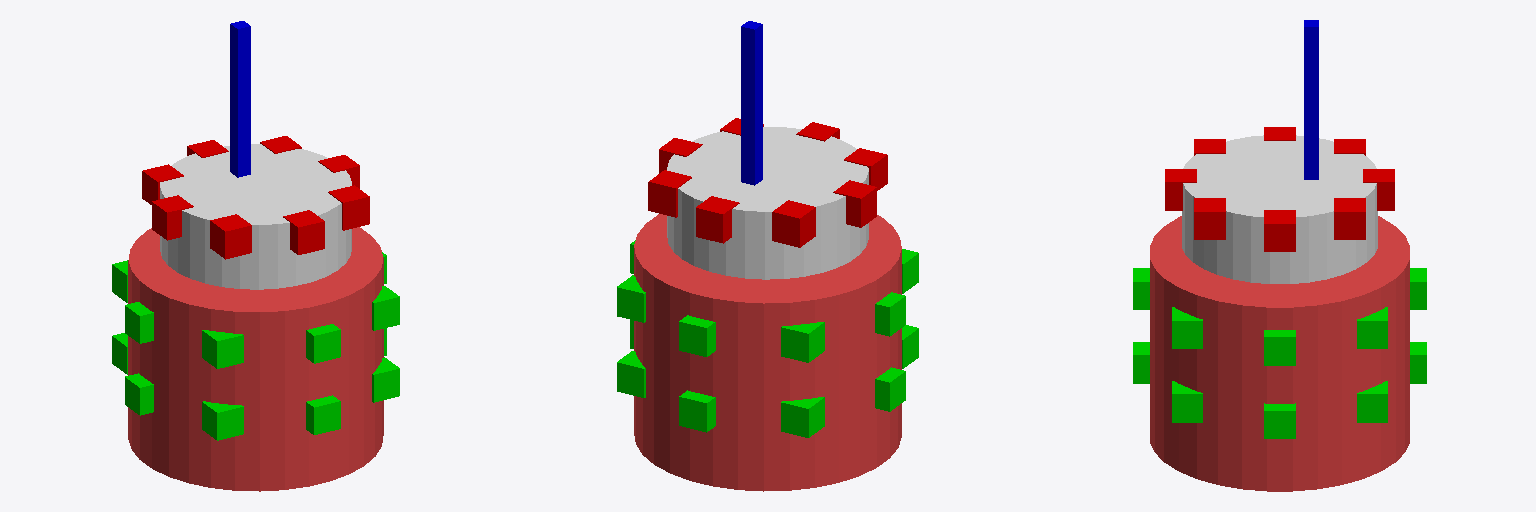
The robot description file, URDF, robot "random_bottle":
<?xml version="1.0"?>
<robot name="random_bottle">

  <!-- Define the cap link -->
  <link name="link1">
    <visual>
      <geometry>
        <mesh filename="cap.obj" scale="1.0 1.0 1.0"/>
      </geometry>
       <material name="white">
        <color rgba=".9 .9 .9 1"/>
      </material>

    </visual>
    <collision>
      <geometry>
        <mesh filename="cap.obj" scale="1.0 1.0 1.0"/>
      </geometry>
    </collision>

    <inertial>
      <mass value="0.012573461490795374"/> <!-- You can adjust the mass as needed -->
      <origin rpy="0 0 0" xyz="0 0 0"/>
      <inertia ixx="3.650944964396852e-06" ixy="0.0" ixz="0.0" iyy="3.650944964396852e-06" iyz="0.0" izz="6.173862986410427e-06"/>
    </inertial>
  </link>

    <link name="l10">
    <visual>
      <geometry>
        <box size="0.01 0.01 0.01"/>
      </geometry>

      <material name="red">
        <color rgba="0.9 0.0 0.0 1"/>
      </material>

    </visual>

    <inertial>
      <mass value="0.0001"/> <!-- You can adjust the mass as needed -->
      <origin rpy="0 0 0" xyz="0 0 -0.00"/> <!-- Offset by half of link1's height + 0.03m for the margin -->
      <inertia ixx="0.000000003" ixy="0.0" ixz="0.0" iyy="0.0000003" iyz="0.0" izz="0.00000003"/>
    </inertial>

  </link>
  <link name="l11">
    <visual>
      <geometry>
        <box size="0.01 0.01 0.01"/>
      </geometry>

      <material name="red">
        <color rgba="0.9 0.0 0.0 1"/>
      </material>

    </visual>

    <inertial>
      <mass value="0.0001"/> <!-- You can adjust the mass as needed -->
      <origin rpy="0 0 0" xyz="0 0 -0.00"/> <!-- Offset by half of link1's height + 0.03m for the margin -->
      <inertia ixx="0.000000003" ixy="0.0" ixz="0.0" iyy="0.0000003" iyz="0.0" izz="0.00000003"/>
    </inertial>

  </link>
  <link name="l12">
    <visual>
      <geometry>
        <box size="0.01 0.01 0.01"/>
      </geometry>

      <material name="red">
        <color rgba="0.9 0.0 0.0 1"/>
      </material>

    </visual>

    <inertial>
      <mass value="0.0001"/> <!-- You can adjust the mass as needed -->
      <origin rpy="0 0 0" xyz="0 0 -0.00"/> <!-- Offset by half of link1's height + 0.03m for the margin -->
      <inertia ixx="0.000000003" ixy="0.0" ixz="0.0" iyy="0.0000003" iyz="0.0" izz="0.00000003"/>
    </inertial>

  </link>
  <link name="l13">
    <visual>
      <geometry>
        <box size="0.01 0.01 0.01"/>
      </geometry>

      <material name="red">
        <color rgba="0.9 0.0 0.0 1"/>
      </material>

    </visual>

    <inertial>
      <mass value="0.0001"/> <!-- You can adjust the mass as needed -->
      <origin rpy="0 0 0" xyz="0 0 -0.00"/> <!-- Offset by half of link1's height + 0.03m for the margin -->
      <inertia ixx="0.000000003" ixy="0.0" ixz="0.0" iyy="0.0000003" iyz="0.0" izz="0.00000003"/>
    </inertial>

  </link>
  <link name="l10b">
    <visual>
      <geometry>
        <box size="0.01 0.01 0.01"/>
      </geometry>

      <material name="red">
        <color rgba="0.9 0.0 0.0 1"/>
      </material>

    </visual>

    <inertial>
      <mass value="0.0001"/> <!-- You can adjust the mass as needed -->
      <origin rpy="0 0 0" xyz="0 0 -0.00"/> <!-- Offset by half of link1's height + 0.03m for the margin -->
      <inertia ixx="0.000000003" ixy="0.0" ixz="0.0" iyy="0.0000003" iyz="0.0" izz="0.00000003"/>
    </inertial>

  </link>
  <link name="l11b">
    <visual>
      <geometry>
        <box size="0.01 0.01 0.01"/>
      </geometry>

      <material name="red">
        <color rgba="0.9 0.0 0.0 1"/>
      </material>

    </visual>

    <inertial>
      <mass value="0.0001"/> <!-- You can adjust the mass as needed -->
      <origin rpy="0 0 0" xyz="0 0 -0.00"/> <!-- Offset by half of link1's height + 0.03m for the margin -->
      <inertia ixx="0.000000003" ixy="0.0" ixz="0.0" iyy="0.0000003" iyz="0.0" izz="0.00000003"/>
    </inertial>

  </link>
  <link name="l12b">
    <visual>
      <geometry>
        <box size="0.01 0.01 0.01"/>
      </geometry>

      <material name="red">
        <color rgba="0.9 0.0 0.0 1"/>
      </material>

    </visual>

    <inertial>
      <mass value="0.0001"/> <!-- You can adjust the mass as needed -->
      <origin rpy="0 0 0" xyz="0 0 -0.00"/> <!-- Offset by half of link1's height + 0.03m for the margin -->
      <inertia ixx="0.000000003" ixy="0.0" ixz="0.0" iyy="0.0000003" iyz="0.0" izz="0.00000003"/>
    </inertial>

  </link>
  <link name="l13b">
    <visual>
      <geometry>
        <box size="0.01 0.01 0.01"/>
      </geometry>

      <material name="red">
        <color rgba="0.9 0.0 0.0 1"/>
      </material>

    </visual>

    <inertial>
      <mass value="0.0001"/> <!-- You can adjust the mass as needed -->
      <origin rpy="0 0 0" xyz="0 0 -0.00"/> <!-- Offset by half of link1's height + 0.03m for the margin -->
      <inertia ixx="0.000000003" ixy="0.0" ixz="0.0" iyy="0.0000003" iyz="0.0" izz="0.00000003"/>
    </inertial>

  </link>
  <link name="l20">
    <visual>
      <geometry>
        <box size="0.01 0.01 0.01"/>
      </geometry>

      <material name="red">
        <color rgba="0.0 0.9 0.0 1"/>
      </material>

    </visual>

    <inertial>
      <mass value="0.0001"/> <!-- You can adjust the mass as needed -->
      <origin rpy="0 0 0" xyz="0 0 -0.00"/> <!-- Offset by half of link1's height + 0.03m for the margin -->
      <inertia ixx="0.000000003" ixy="0.0" ixz="0.0" iyy="0.0000003" iyz="0.0" izz="0.00000003"/>
    </inertial>

  </link>
  <link name="l21">
    <visual>
      <geometry>
        <box size="0.01 0.01 0.01"/>
      </geometry>

      <material name="red">
        <color rgba="0.0 0.9 0.0 1"/>
      </material>

    </visual>

    <inertial>
      <mass value="0.0001"/> <!-- You can adjust the mass as needed -->
      <origin rpy="0 0 0" xyz="0 0 -0.00"/> <!-- Offset by half of link1's height + 0.03m for the margin -->
      <inertia ixx="0.000000003" ixy="0.0" ixz="0.0" iyy="0.0000003" iyz="0.0" izz="0.00000003"/>
    </inertial>

  </link>
  <link name="l22">
    <visual>
      <geometry>
        <box size="0.01 0.01 0.01"/>
      </geometry>

      <material name="red">
        <color rgba="0.0 0.9 0.0 1"/>
      </material>

    </visual>

    <inertial>
      <mass value="0.0001"/> <!-- You can adjust the mass as needed -->
      <origin rpy="0 0 0" xyz="0 0 -0.00"/> <!-- Offset by half of link1's height + 0.03m for the margin -->
      <inertia ixx="0.000000003" ixy="0.0" ixz="0.0" iyy="0.0000003" iyz="0.0" izz="0.00000003"/>
    </inertial>

  </link>
  <link name="l23">
    <visual>
      <geometry>
        <box size="0.01 0.01 0.01"/>
      </geometry>

      <material name="red">
        <color rgba="0.0 0.9 0.0 1"/>
      </material>

    </visual>

    <inertial>
      <mass value="0.0001"/> <!-- You can adjust the mass as needed -->
      <origin rpy="0 0 0" xyz="0 0 -0.00"/> <!-- Offset by half of link1's height + 0.03m for the margin -->
      <inertia ixx="0.000000003" ixy="0.0" ixz="0.0" iyy="0.0000003" iyz="0.0" izz="0.00000003"/>
    </inertial>

  </link>
  <link name="l24">
    <visual>
      <geometry>
        <box size="0.01 0.01 0.01"/>
      </geometry>

      <material name="red">
        <color rgba="0.0 0.9 0.0 1"/>
      </material>

    </visual>

    <inertial>
      <mass value="0.0001"/> <!-- You can adjust the mass as needed -->
      <origin rpy="0 0 0" xyz="0 0 -0.00"/> <!-- Offset by half of link1's height + 0.03m for the margin -->
      <inertia ixx="0.000000003" ixy="0.0" ixz="0.0" iyy="0.0000003" iyz="0.0" izz="0.00000003"/>
    </inertial>

  </link>
  <link name="l25">
    <visual>
      <geometry>
        <box size="0.01 0.01 0.01"/>
      </geometry>

      <material name="red">
        <color rgba="0.0 0.9 0.0 1"/>
      </material>

    </visual>

    <inertial>
      <mass value="0.0001"/> <!-- You can adjust the mass as needed -->
      <origin rpy="0 0 0" xyz="0 0 -0.00"/> <!-- Offset by half of link1's height + 0.03m for the margin -->
      <inertia ixx="0.000000003" ixy="0.0" ixz="0.0" iyy="0.0000003" iyz="0.0" izz="0.00000003"/>
    </inertial>

  </link>
  <link name="l26">
    <visual>
      <geometry>
        <box size="0.01 0.01 0.01"/>
      </geometry>

      <material name="red">
        <color rgba="0.0 0.9 0.0 1"/>
      </material>

    </visual>

    <inertial>
      <mass value="0.0001"/> <!-- You can adjust the mass as needed -->
      <origin rpy="0 0 0" xyz="0 0 -0.00"/> <!-- Offset by half of link1's height + 0.03m for the margin -->
      <inertia ixx="0.000000003" ixy="0.0" ixz="0.0" iyy="0.0000003" iyz="0.0" izz="0.00000003"/>
    </inertial>

  </link>
  <link name="l27">
    <visual>
      <geometry>
        <box size="0.01 0.01 0.01"/>
      </geometry>

      <material name="red">
        <color rgba="0.0 0.9 0.0 1"/>
      </material>

    </visual>

    <inertial>
      <mass value="0.0001"/> <!-- You can adjust the mass as needed -->
      <origin rpy="0 0 0" xyz="0 0 -0.00"/> <!-- Offset by half of link1's height + 0.03m for the margin -->
      <inertia ixx="0.000000003" ixy="0.0" ixz="0.0" iyy="0.0000003" iyz="0.0" izz="0.00000003"/>
    </inertial>

  </link>
  <link name="l30">
    <visual>
      <geometry>
        <box size="0.01 0.01 0.01"/>
      </geometry>

      <material name="red">
        <color rgba="0.0 0.9 0.0 1"/>
      </material>

    </visual>

    <inertial>
      <mass value="0.0001"/> <!-- You can adjust the mass as needed -->
      <origin rpy="0 0 0" xyz="0 0 -0.00"/> <!-- Offset by half of link1's height + 0.03m for the margin -->
      <inertia ixx="0.000000003" ixy="0.0" ixz="0.0" iyy="0.0000003" iyz="0.0" izz="0.00000003"/>
    </inertial>

  </link>
  <link name="l31">
    <visual>
      <geometry>
        <box size="0.01 0.01 0.01"/>
      </geometry>

      <material name="red">
        <color rgba="0.0 0.9 0.0 1"/>
      </material>

    </visual>

    <inertial>
      <mass value="0.0001"/> <!-- You can adjust the mass as needed -->
      <origin rpy="0 0 0" xyz="0 0 -0.00"/> <!-- Offset by half of link1's height + 0.03m for the margin -->
      <inertia ixx="0.000000003" ixy="0.0" ixz="0.0" iyy="0.0000003" iyz="0.0" izz="0.00000003"/>
    </inertial>

  </link>
  <link name="l32">
    <visual>
      <geometry>
        <box size="0.01 0.01 0.01"/>
      </geometry>

      <material name="red">
        <color rgba="0.0 0.9 0.0 1"/>
      </material>

    </visual>

    <inertial>
      <mass value="0.0001"/> <!-- You can adjust the mass as needed -->
      <origin rpy="0 0 0" xyz="0 0 -0.00"/> <!-- Offset by half of link1's height + 0.03m for the margin -->
      <inertia ixx="0.000000003" ixy="0.0" ixz="0.0" iyy="0.0000003" iyz="0.0" izz="0.00000003"/>
    </inertial>

  </link>
  <link name="l33">
    <visual>
      <geometry>
        <box size="0.01 0.01 0.01"/>
      </geometry>

      <material name="red">
        <color rgba="0.0 0.9 0.0 1"/>
      </material>

    </visual>

    <inertial>
      <mass value="0.0001"/> <!-- You can adjust the mass as needed -->
      <origin rpy="0 0 0" xyz="0 0 -0.00"/> <!-- Offset by half of link1's height + 0.03m for the margin -->
      <inertia ixx="0.000000003" ixy="0.0" ixz="0.0" iyy="0.0000003" iyz="0.0" izz="0.00000003"/>
    </inertial>

  </link>
  <link name="l34">
    <visual>
      <geometry>
        <box size="0.01 0.01 0.01"/>
      </geometry>

      <material name="red">
        <color rgba="0.0 0.9 0.0 1"/>
      </material>

    </visual>

    <inertial>
      <mass value="0.0001"/> <!-- You can adjust the mass as needed -->
      <origin rpy="0 0 0" xyz="0 0 -0.00"/> <!-- Offset by half of link1's height + 0.03m for the margin -->
      <inertia ixx="0.000000003" ixy="0.0" ixz="0.0" iyy="0.0000003" iyz="0.0" izz="0.00000003"/>
    </inertial>

  </link>
  <link name="l35">
    <visual>
      <geometry>
        <box size="0.01 0.01 0.01"/>
      </geometry>

      <material name="red">
        <color rgba="0.0 0.9 0.0 1"/>
      </material>

    </visual>

    <inertial>
      <mass value="0.0001"/> <!-- You can adjust the mass as needed -->
      <origin rpy="0 0 0" xyz="0 0 -0.00"/> <!-- Offset by half of link1's height + 0.03m for the margin -->
      <inertia ixx="0.000000003" ixy="0.0" ixz="0.0" iyy="0.0000003" iyz="0.0" izz="0.00000003"/>
    </inertial>

  </link>
  <link name="l36">
    <visual>
      <geometry>
        <box size="0.01 0.01 0.01"/>
      </geometry>

      <material name="red">
        <color rgba="0.0 0.9 0.0 1"/>
      </material>

    </visual>

    <inertial>
      <mass value="0.0001"/> <!-- You can adjust the mass as needed -->
      <origin rpy="0 0 0" xyz="0 0 -0.00"/> <!-- Offset by half of link1's height + 0.03m for the margin -->
      <inertia ixx="0.000000003" ixy="0.0" ixz="0.0" iyy="0.0000003" iyz="0.0" izz="0.00000003"/>
    </inertial>

  </link>
  <link name="l37">
    <visual>
      <geometry>
        <box size="0.01 0.01 0.01"/>
      </geometry>

      <material name="red">
        <color rgba="0.0 0.9 0.0 1"/>
      </material>

    </visual>

    <inertial>
      <mass value="0.0001"/> <!-- You can adjust the mass as needed -->
      <origin rpy="0 0 0" xyz="0 0 -0.00"/> <!-- Offset by half of link1's height + 0.03m for the margin -->
      <inertia ixx="0.000000003" ixy="0.0" ixz="0.0" iyy="0.0000003" iyz="0.0" izz="0.00000003"/>
    </inertial>

  </link>


  <link name="hint">
    <visual>
      <geometry>
        <box size="0.005 0.005 0.07"/> <!-- 9cm x 9cm x 6cm -->
      </geometry>
       <material name="blue">
        <color rgba=".0 .0 .9 1"/>
      </material>
    </visual>

    <inertial>
      <mass value="0.0001"/> <!-- You can adjust the mass as needed -->
      <origin rpy="0 0 0" xyz="0 0 -0.00"/> <!-- Offset by half of link1's height + 0.03m for the margin -->
      <inertia ixx="0.000000003" ixy="0.0" ixz="0.0" iyy="0.0000003" iyz="0.0" izz="0.00000003"/>
    </inertial>


  </link>

  <!-- Define the base link -->
  <link name="link2">
    <visual>
      <geometry>
        <mesh filename="base.obj" scale="1.0 1.0 1.0"/>
      </geometry>
      <material name="red">
        <color rgba=".9 .3 .3 1"/>
      </material>

    </visual>

    <collision>
      <geometry>
        <mesh filename="base.obj" scale="1.0 1.0 1.0"/>
      </geometry>
    </collision>

    <inertial>
      <mass value="0.0567644256367411"/> <!-- You can adjust the mass as needed -->
      <origin rpy="0 0 0" xyz="0 0 -0.00"/> <!-- Offset by half of link1's height + 0.03m for the margin -->
      <inertia ixx="4.415228573289781e-05" ixy="0.0" ixz="0.0" iyy="4.415228573289781e-05" iyz="0.0" izz="4.90921093415296e-05"/>
    </inertial>
  </link>



  <link name="brake">
   <visual>
      <geometry>
        <box size="0.02 0.02 0.005"/> <!-- 6cm x 6cm x 2cm -->
      </geometry>
       <material name="gray">
        <color rgba=".5 .5 .5 1"/>
      </material>

    </visual>
    <collision>
      <geometry>
        <box size="0.02 0.02 0.005"/> <!-- 6cm x 6cm x 2cm -->
      </geometry>
    </collision>

    <inertial>
      <mass value="0.005"/> <!-- You can adjust the mass as needed -->
      <origin rpy="0 0 0" xyz="0 0 0"/>
      <inertia ixx="0.00018" ixy="0.0" ixz="0.0" iyy="0.00018" iyz="0.0" izz="0.00018"/>
    </inertial>
  </link>

  <!-- Define the joint connecting link1 and link2 as a revolute joint along z-axis -->
  <joint name="fix_joint" type="fixed">
    <parent link="link1"/>
    <child link="hint"/>
    <origin rpy="0 0 0" xyz="0 0.01 0.03"/> <!-- Offset by half of link1's height for the margin -->
    <axis xyz="0 0 1"/>
  </joint>

  <!-- Define the joint connecting link1 and link2 as a revolute joint along z-axis -->
  <joint name="brake_joint" type="prismatic">
    <parent link="link2"/>
    <child link="brake"/>
    <origin rpy="0 0 0" xyz="0 0 0.05539096080207221"/> <!-- Offset by half of link1's height for the margin -->
    <axis xyz="0 0 1"/>
    <limit lower="-0.02" upper="0.02" />
    <!-- <dynamics damping="0.0" friction="0.0"/> -->
  </joint>


  <joint name="b_joint" type="revolute">
    <parent link="link2"/>
    <child link="link1"/>
    <origin rpy="0 0 0" xyz="0 0 0.04718989512151735"/> <!-- Offset by half of link1's height for the margin -->
    <axis xyz="0 0 1"/>
    <!-- No joint limits -->
    <dynamics damping="0.0" friction="0.0"/>
  </joint>


  <!-- marker -->
    <joint name="jl10" type="fixed">
    <parent link="link1"/>
    <child link="l10"/>
    <origin rpy="0 0 0" xyz="0.0 0.03133762385439873 0.006960319704166458"/> <!-- Offset by half of link1's height for the margin -->
    <axis xyz="0 0 1"/>
  </joint>
  <joint name="jl11" type="fixed">
    <parent link="link1"/>
    <child link="l11"/>
    <origin rpy="0 0 0" xyz="0.022159046036843974 0.022159046630593326 0.006960319704166458"/> <!-- Offset by half of link1's height for the margin -->
    <axis xyz="0 0 1"/>
  </joint>
  <joint name="jl12" type="fixed">
    <parent link="link1"/>
    <child link="l12"/>
    <origin rpy="0 0 0" xyz="0.03133762385439871 8.396883903991403e-10 0.006960319704166458"/> <!-- Offset by half of link1's height for the margin -->
    <axis xyz="0 0 1"/>
  </joint>
  <joint name="jl13" type="fixed">
    <parent link="link1"/>
    <child link="l13"/>
    <origin rpy="0 0 0" xyz="0.02215904722434266 -0.022159045443094605 0.006960319704166458"/> <!-- Offset by half of link1's height for the margin -->
    <axis xyz="0 0 1"/>
  </joint>
  <joint name="jl10b" type="fixed">
    <parent link="link1"/>
    <child link="l10b"/>
    <origin rpy="0 0 0" xyz="1.67937678079828e-09 -0.03133762385439868 0.006960319704166458"/> <!-- Offset by half of link1's height for the margin -->
    <axis xyz="0 0 1"/>
  </joint>
  <joint name="jl11b" type="fixed">
    <parent link="link1"/>
    <child link="l11b"/>
    <origin rpy="0 0 0" xyz="-0.02215904484934521 -0.022159047818091995 0.006960319704166458"/> <!-- Offset by half of link1's height for the margin -->
    <axis xyz="0 0 1"/>
  </joint>
  <joint name="jl12b" type="fixed">
    <parent link="link1"/>
    <child link="l12b"/>
    <origin rpy="0 0 0" xyz="-0.03133762385439862 -2.5190651572807178e-09 0.006960319704166458"/> <!-- Offset by half of link1's height for the margin -->
    <axis xyz="0 0 1"/>
  </joint>
  <joint name="jl13b" type="fixed">
    <parent link="link1"/>
    <child link="l13b"/>
    <origin rpy="0 0 0" xyz="-0.02215904841184129 0.022159044255595818 0.006960319704166458"/> <!-- Offset by half of link1's height for the margin -->
    <axis xyz="0 0 1"/>
  </joint>
  <joint name="jl20" type="fixed">
    <parent link="link2"/>
    <child link="l20"/>
    <origin rpy="0 0 0" xyz="0.0 0.041589406260031554 0.019313937072910407"/> <!-- Offset by half of link1's height for the margin -->
    <axis xyz="0 0 1"/>
  </joint>
  <joint name="jl21" type="fixed">
    <parent link="link2"/>
    <child link="l21"/>
    <origin rpy="0 0 0" xyz="0.02940815079799638 0.029408151585984744 0.019313937072910407"/> <!-- Offset by half of link1's height for the margin -->
    <axis xyz="0 0 1"/>
  </joint>
  <joint name="jl22" type="fixed">
    <parent link="link2"/>
    <child link="l22"/>
    <origin rpy="0 0 0" xyz="0.04158940626003154 1.114383839770288e-09 0.019313937072910407"/> <!-- Offset by half of link1's height for the margin -->
    <axis xyz="0 0 1"/>
  </joint>
  <joint name="jl23" type="fixed">
    <parent link="link2"/>
    <child link="l23"/>
    <origin rpy="0 0 0" xyz="0.029408152373973085 -0.02940815001000799 0.019313937072910407"/> <!-- Offset by half of link1's height for the margin -->
    <axis xyz="0 0 1"/>
  </joint>
  <joint name="jl24" type="fixed">
    <parent link="link2"/>
    <child link="l24"/>
    <origin rpy="0 0 0" xyz="2.228767679540575e-09 -0.04158940626003149 0.019313937072910407"/> <!-- Offset by half of link1's height for the margin -->
    <axis xyz="0 0 1"/>
  </joint>
  <joint name="jl25" type="fixed">
    <parent link="link2"/>
    <child link="l25"/>
    <origin rpy="0 0 0" xyz="-0.029408149222019567 -0.029408153161961426 0.019313937072910407"/> <!-- Offset by half of link1's height for the margin -->
    <axis xyz="0 0 1"/>
  </joint>
  <joint name="jl26" type="fixed">
    <parent link="link2"/>
    <child link="l26"/>
    <origin rpy="0 0 0" xyz="-0.04158940626003142 -3.343151500841454e-09 0.019313937072910407"/> <!-- Offset by half of link1's height for the margin -->
    <axis xyz="0 0 1"/>
  </joint>
  <joint name="jl27" type="fixed">
    <parent link="link2"/>
    <child link="l27"/>
    <origin rpy="0 0 0" xyz="-0.02940815394994972 0.029408148434031146 0.019313937072910407"/> <!-- Offset by half of link1's height for the margin -->
    <axis xyz="0 0 1"/>
  </joint>
  <joint name="jl30" type="fixed">
    <parent link="link2"/>
    <child link="l30"/>
    <origin rpy="0 0 0" xyz="0.0 0.041589406260031554 -0.00643797902430347"/> <!-- Offset by half of link1's height for the margin -->
    <axis xyz="0 0 1"/>
  </joint>
  <joint name="jl31" type="fixed">
    <parent link="link2"/>
    <child link="l31"/>
    <origin rpy="0 0 0" xyz="0.02940815079799638 0.029408151585984744 -0.00643797902430347"/> <!-- Offset by half of link1's height for the margin -->
    <axis xyz="0 0 1"/>
  </joint>
  <joint name="jl32" type="fixed">
    <parent link="link2"/>
    <child link="l32"/>
    <origin rpy="0 0 0" xyz="0.04158940626003154 1.114383839770288e-09 -0.00643797902430347"/> <!-- Offset by half of link1's height for the margin -->
    <axis xyz="0 0 1"/>
  </joint>
  <joint name="jl33" type="fixed">
    <parent link="link2"/>
    <child link="l33"/>
    <origin rpy="0 0 0" xyz="0.029408152373973085 -0.02940815001000799 -0.00643797902430347"/> <!-- Offset by half of link1's height for the margin -->
    <axis xyz="0 0 1"/>
  </joint>
  <joint name="jl34" type="fixed">
    <parent link="link2"/>
    <child link="l34"/>
    <origin rpy="0 0 0" xyz="2.228767679540575e-09 -0.04158940626003149 -0.00643797902430347"/> <!-- Offset by half of link1's height for the margin -->
    <axis xyz="0 0 1"/>
  </joint>
  <joint name="jl35" type="fixed">
    <parent link="link2"/>
    <child link="l35"/>
    <origin rpy="0 0 0" xyz="-0.029408149222019567 -0.029408153161961426 -0.00643797902430347"/> <!-- Offset by half of link1's height for the margin -->
    <axis xyz="0 0 1"/>
  </joint>
  <joint name="jl36" type="fixed">
    <parent link="link2"/>
    <child link="l36"/>
    <origin rpy="0 0 0" xyz="-0.04158940626003142 -3.343151500841454e-09 -0.00643797902430347"/> <!-- Offset by half of link1's height for the margin -->
    <axis xyz="0 0 1"/>
  </joint>
  <joint name="jl37" type="fixed">
    <parent link="link2"/>
    <child link="l37"/>
    <origin rpy="0 0 0" xyz="-0.02940815394994972 0.029408148434031146 -0.00643797902430347"/> <!-- Offset by half of link1's height for the margin -->
    <axis xyz="0 0 1"/>
  </joint>



</robot>

--- Facts derived from the render (not from the file) ---
Views: 3 orthographic renders of the robot side by side, from view 1: azimuth 30°, elevation 25°; view 2: azimuth 150°, elevation 25°; view 3: azimuth 270°, elevation 25°.
Robot: random_bottle — 28 links, 27 joints (1 revolute, 1 prismatic, 25 fixed); root link link2; default pose: all joints at 0.
Links seen in each view (by area): view 1: link2, link1, hint, l11b, l35, l25, l10b, l12b, l13, l24, l34, l26 (+7 smaller); view 2: link2, link1, hint, l13b, l37, l27, l10, l12b, l11, l20, l30, l36 (+7 smaller); view 3: link2, link1, hint, l11, l12, l13, l22, l32, l31, l33, l21, l23 (+6 smaller).
Boxes of the visible links, x1,y1,x2,y2 form: link2: (128, 227, 383, 491); link1: (160, 144, 351, 289); hint: (230, 21, 250, 177); l11b: (210, 214, 251, 259); l35: (202, 401, 243, 440); l25: (202, 330, 243, 368); l10b: (283, 210, 324, 254); l12b: (152, 195, 193, 240); l13: (328, 185, 369, 230); l24: (306, 324, 340, 363); l34: (306, 395, 340, 434); l26: (125, 302, 153, 343); link2: (634, 214, 901, 491); link1: (667, 127, 868, 279); hint: (741, 21, 762, 185); l13b: (772, 200, 815, 247); l37: (781, 397, 824, 437); l27: (781, 322, 824, 362); l10: (696, 196, 739, 243); l12b: (833, 180, 876, 227); l11: (648, 170, 691, 217); l20: (679, 315, 715, 356); l30: (679, 390, 715, 432); l36: (875, 367, 905, 411); link2: (1150, 216, 1409, 491); link1: (1182, 135, 1377, 283); hint: (1304, 20, 1318, 179); l11: (1334, 198, 1365, 239); l12: (1264, 210, 1295, 251); l13: (1194, 198, 1225, 239); l22: (1264, 330, 1295, 365); l32: (1264, 403, 1295, 438); l31: (1357, 381, 1387, 422); l33: (1172, 381, 1202, 422); l21: (1357, 307, 1387, 348); l23: (1172, 307, 1202, 348).
Bounding box of the posed robot: 0.0932 × 0.0932 × 0.1444 m (x, y, z).
2 mesh visuals loaded from 2 distinct referenced files (2 OBJ).
